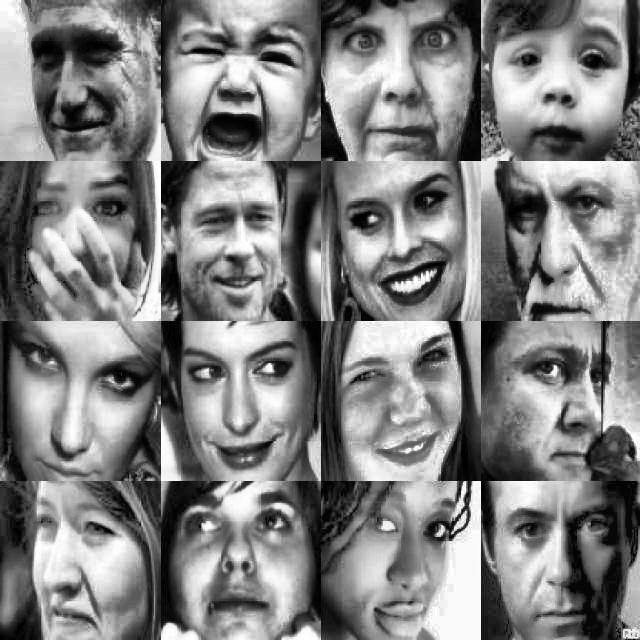fear: (19, 170, 145, 294), (341, 24, 444, 147)
happy: (335, 179, 455, 307), (348, 342, 460, 473), (179, 342, 297, 460), (186, 182, 297, 304), (32, 16, 124, 133)
neutral: (180, 502, 303, 628), (31, 344, 143, 475), (348, 493, 450, 631), (515, 177, 619, 311), (517, 330, 621, 459), (507, 510, 616, 626), (505, 32, 613, 146)
sad: (176, 25, 304, 149), (32, 504, 146, 638)
